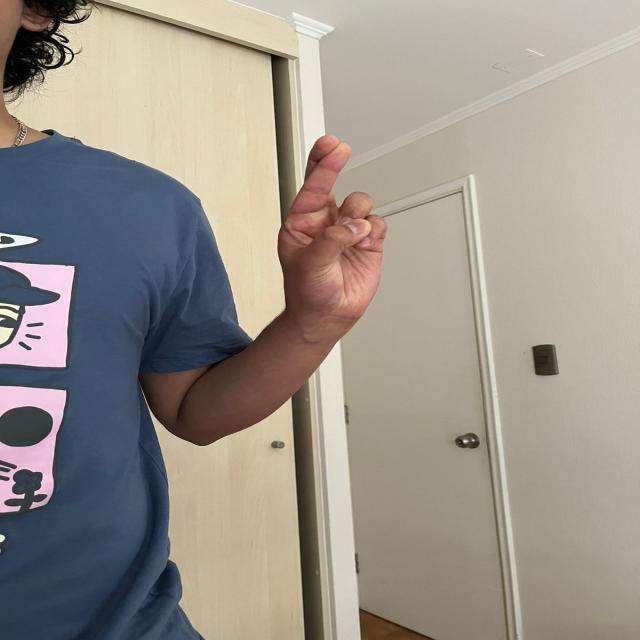R: (276, 131, 391, 323)
